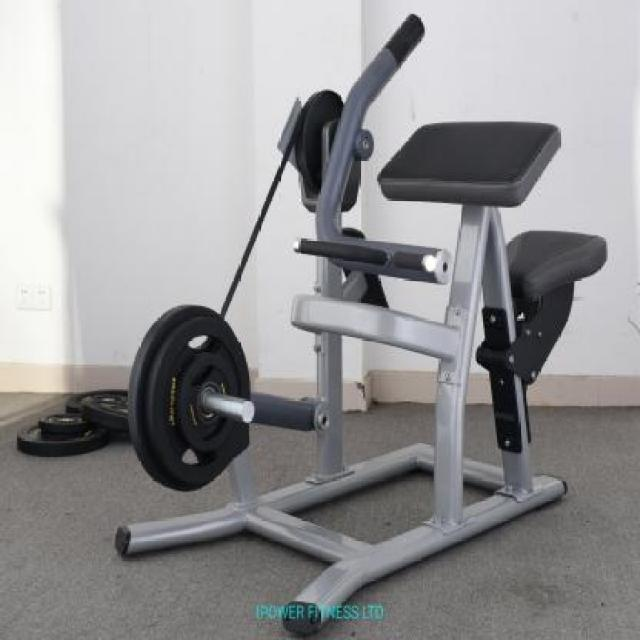arm curl machine: (126, 0, 606, 600)
